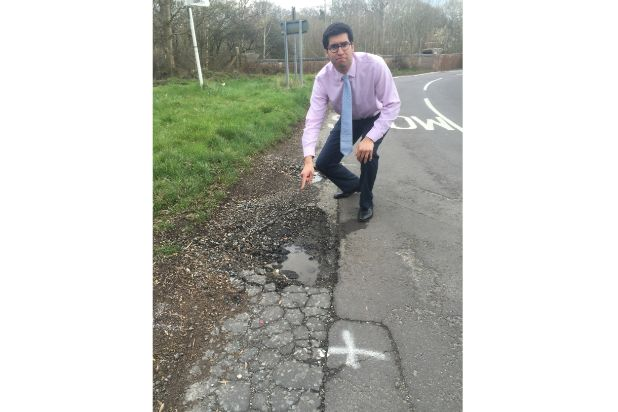pothole: (258, 202, 341, 288)
